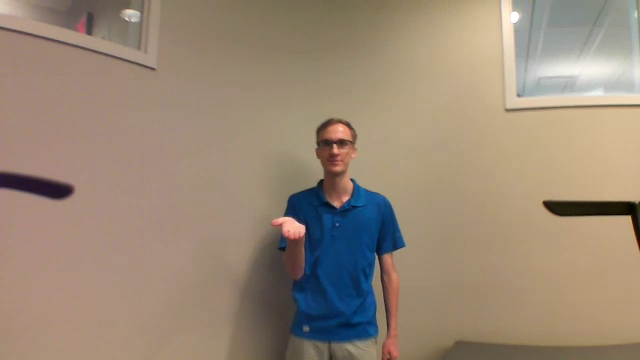land: (264, 211, 312, 246)
